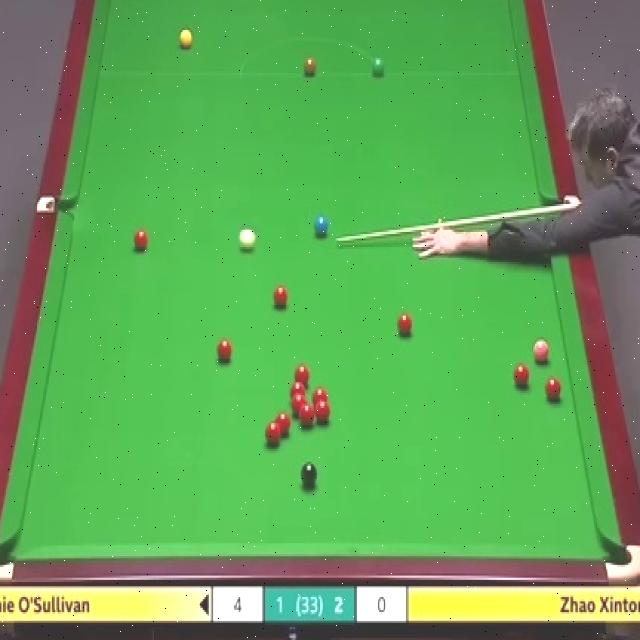black-ball: (299, 462, 318, 485)
blue-ball: (313, 214, 330, 238)
brown-ball: (303, 56, 316, 77)
green-ball: (371, 58, 386, 80)
pink-ball: (532, 339, 551, 364)
red-ball: (513, 361, 530, 388), (272, 284, 289, 310), (266, 419, 282, 446), (275, 411, 291, 437), (544, 376, 561, 400), (396, 312, 413, 335), (316, 398, 331, 424), (216, 337, 232, 361), (288, 381, 306, 400), (300, 403, 314, 427), (294, 364, 309, 386), (133, 230, 148, 252), (292, 394, 306, 416), (312, 386, 329, 402)
white-ball: (240, 228, 255, 253)
yellow-ball: (179, 29, 192, 51)
